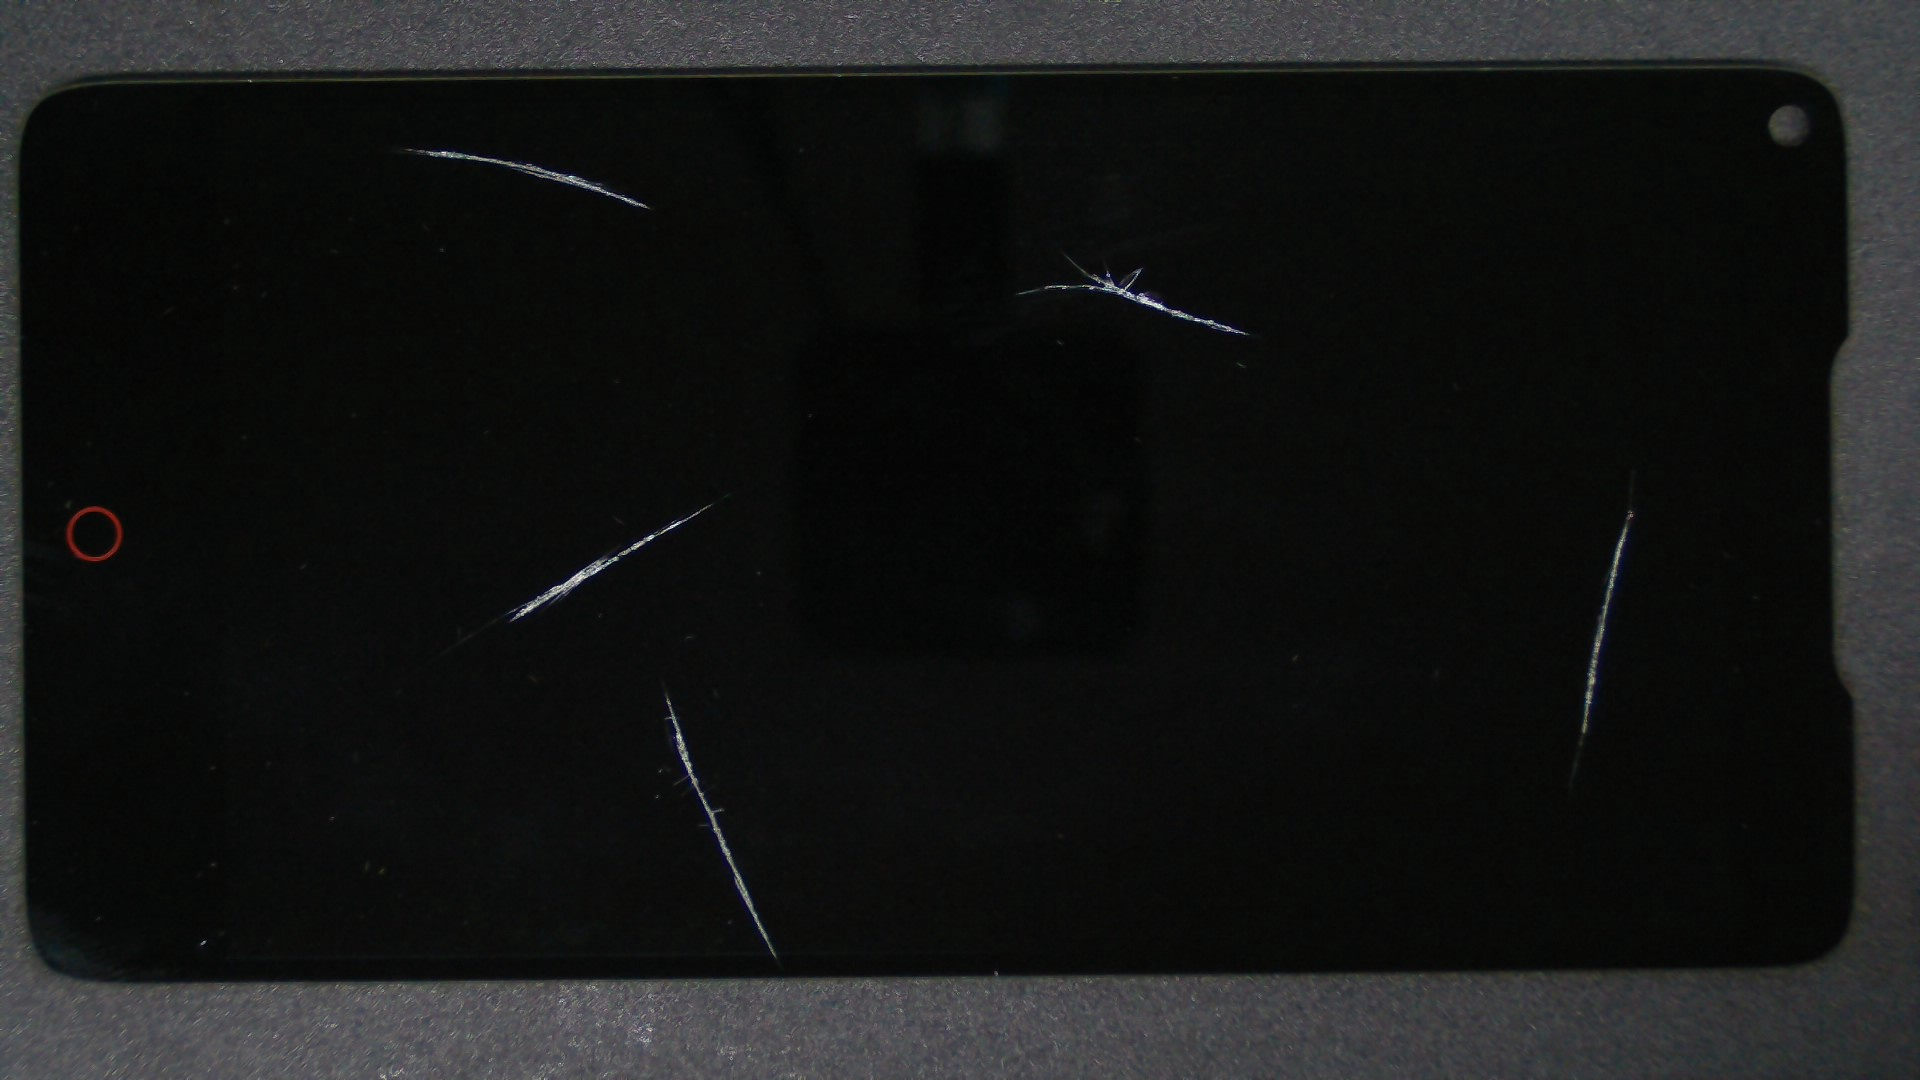oil: (814, 255, 1920, 764), (334, 345, 1000, 1040), (356, 251, 1064, 756), (530, 124, 1597, 381), (203, 73, 607, 222)
